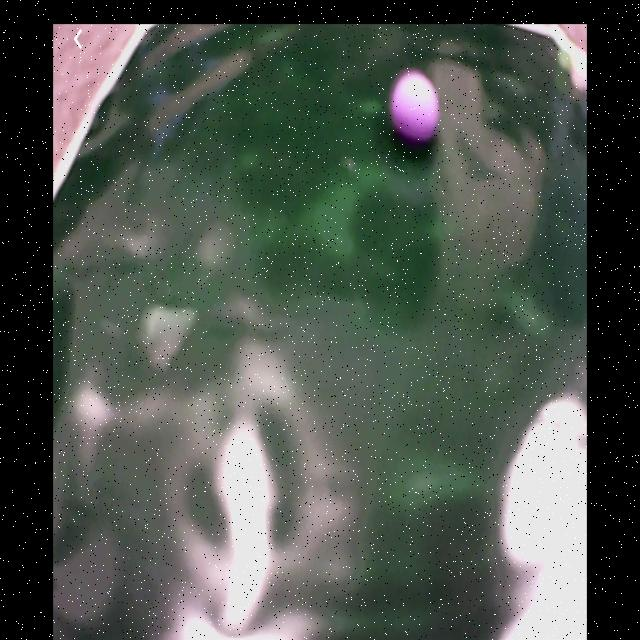ball: (392, 72, 443, 141)
